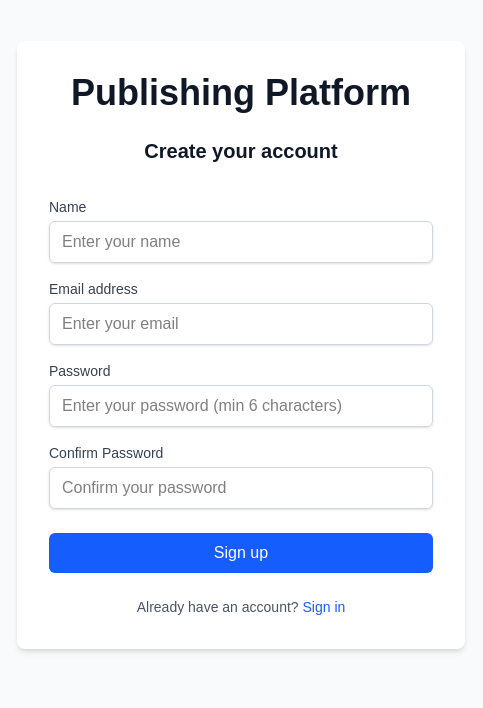
Test: RegisterPage › should show error message on registration failure
Type "Test User" into the field labelled "Name".
click(241, 242); type("Test User")  # box [49,221,433,263]
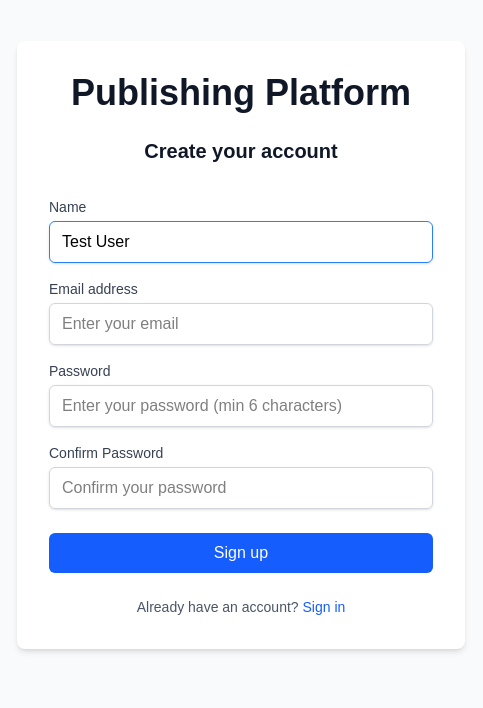
Type "test@example.com" into the field labelled "Email address".
click(241, 324); type("test@example.com")  # box [49,303,433,345]
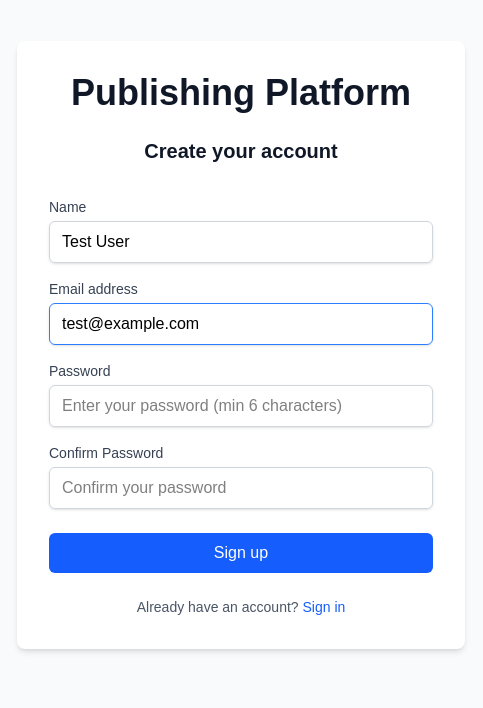
Type "password123" into the password field labelled "Password".
click(241, 406); type("password123")  # box [49,385,433,427]
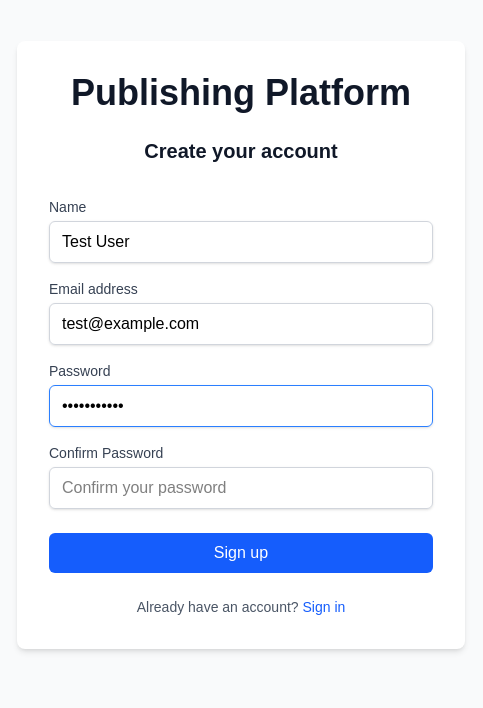
Type "password123" into the password field labelled "Confirm Password".
click(241, 488); type("password123")  # box [49,467,433,509]
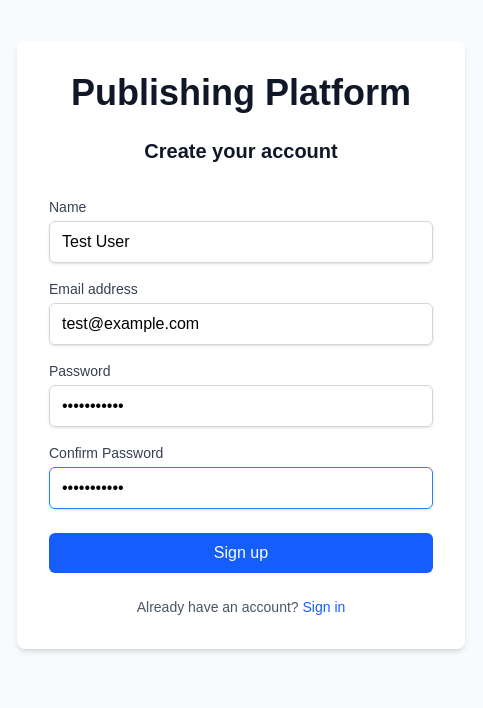
Click the button "Sign up".
click(241, 553)  # box [49,533,433,573]
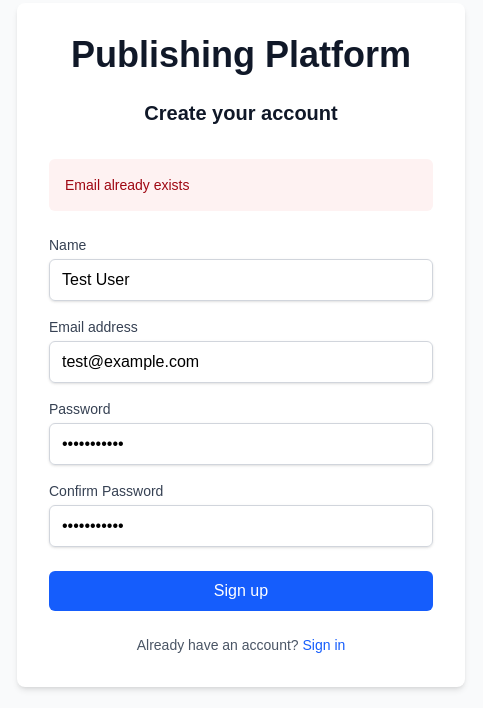
Expected: the text "Email already exists" is shown, [65,177,190,193]
